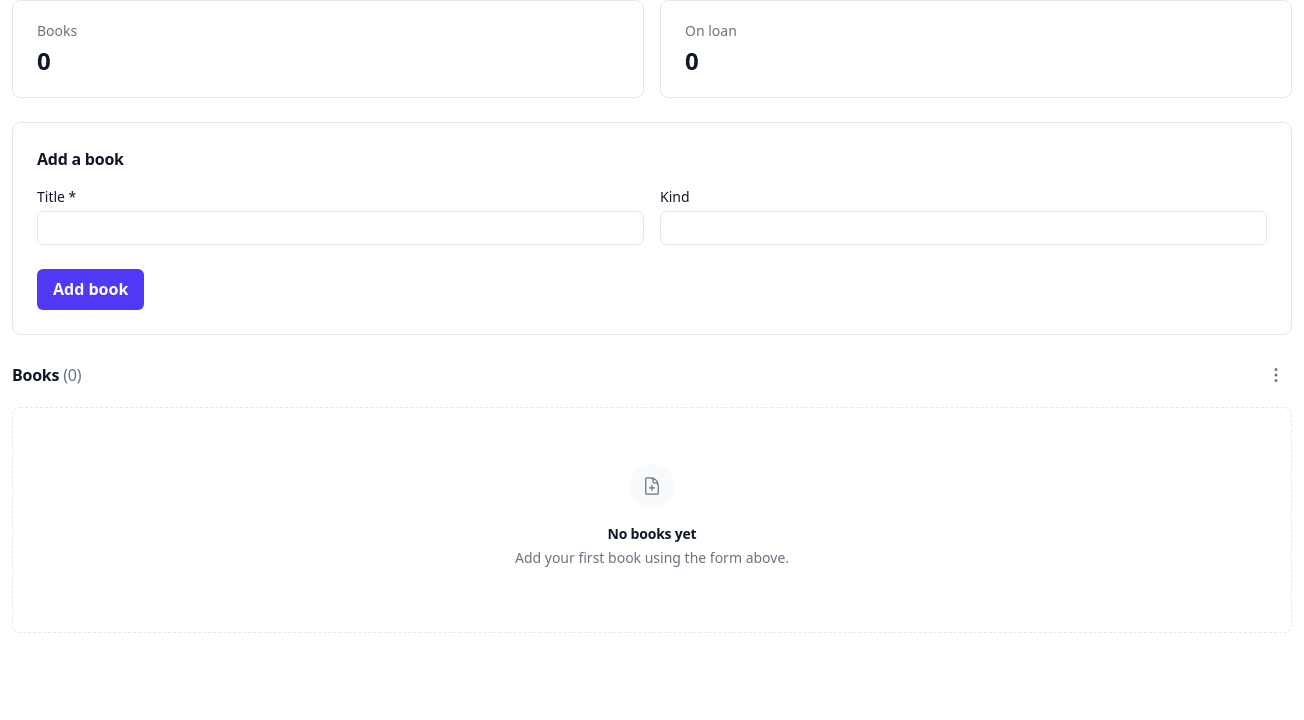
it: row actions › collects a value inline and writes it to the record
Type "Hamlet" into the field labelled "Title *" at (340, 228), box [37, 211, 644, 245]
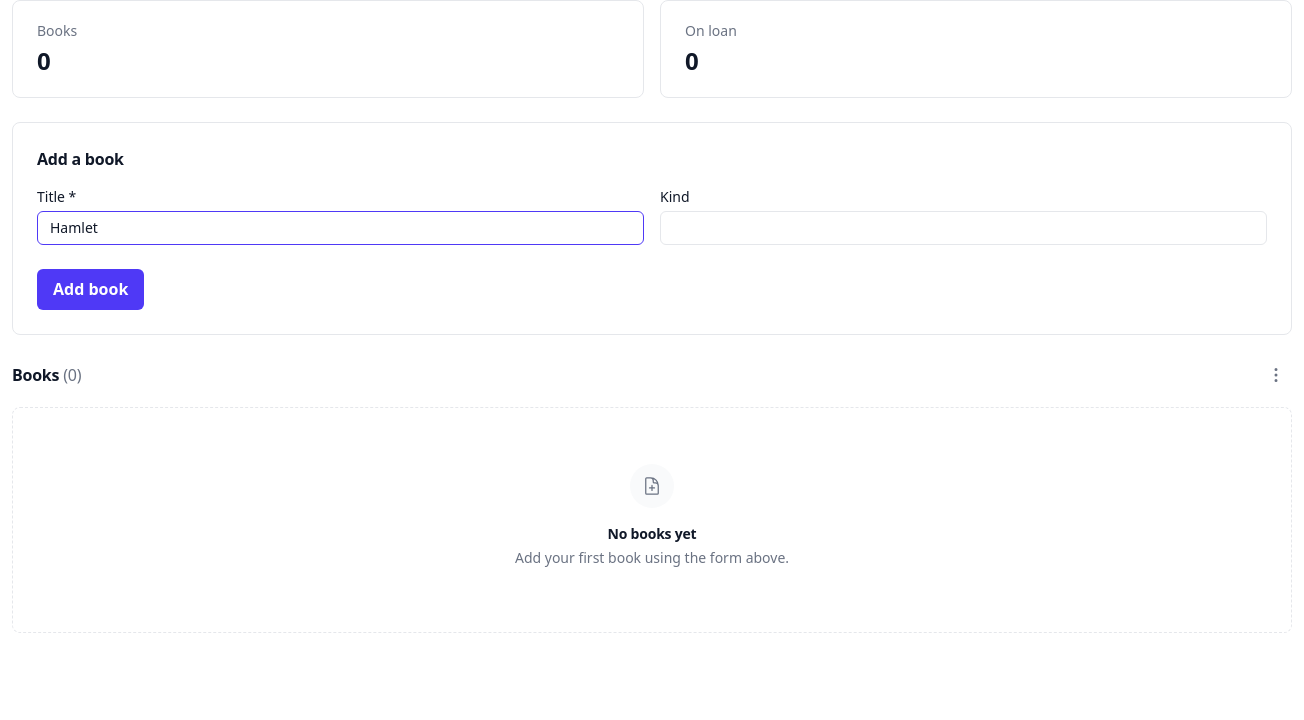
Click the button "Add book" at (91, 289), box [37, 269, 144, 310]
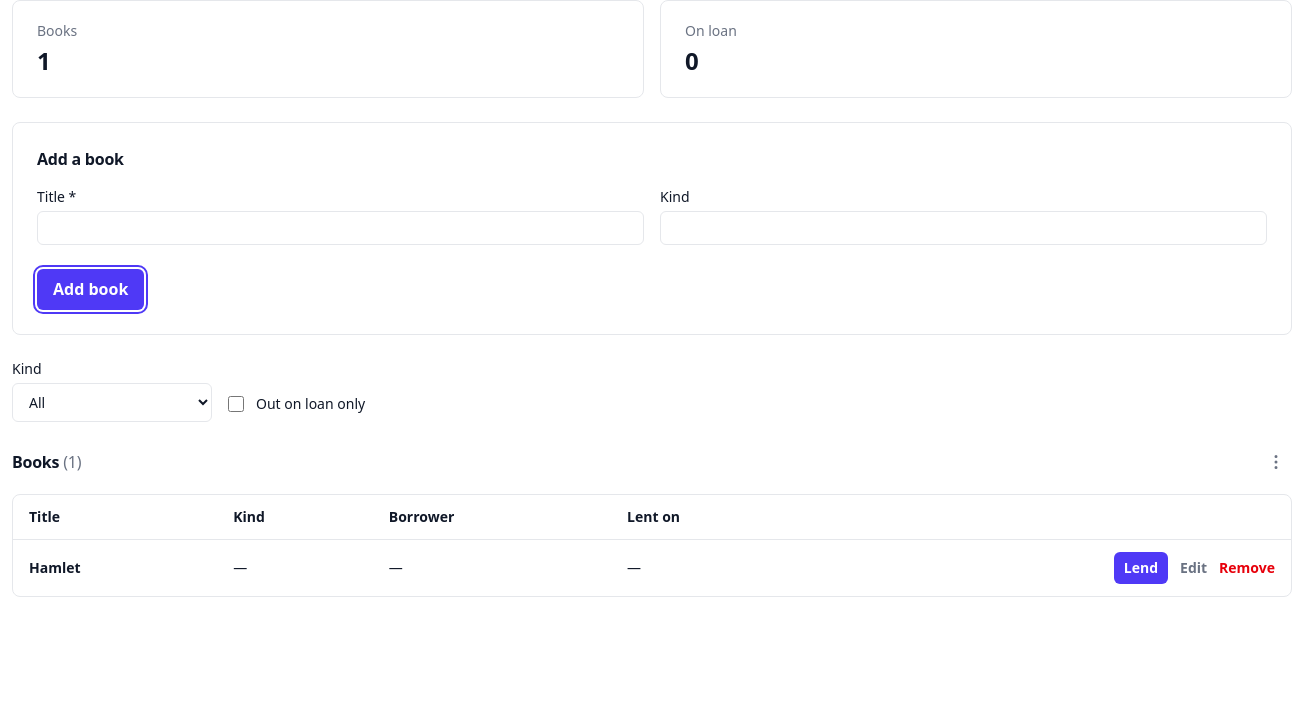
Click the button with aria-label "Lend: Hamlet" at (1141, 568), box [1114, 552, 1168, 584]
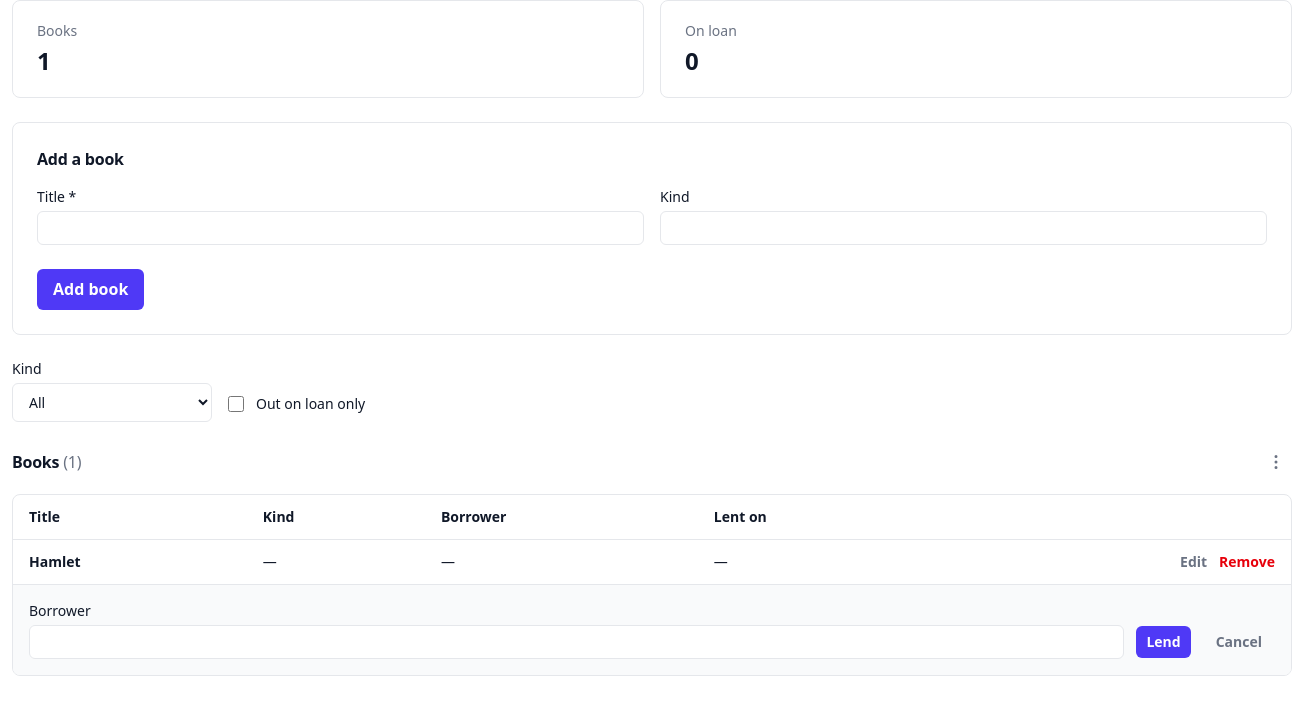
Type "Ada" into the field labelled "Borrower" at (577, 642), box [29, 625, 1124, 659]
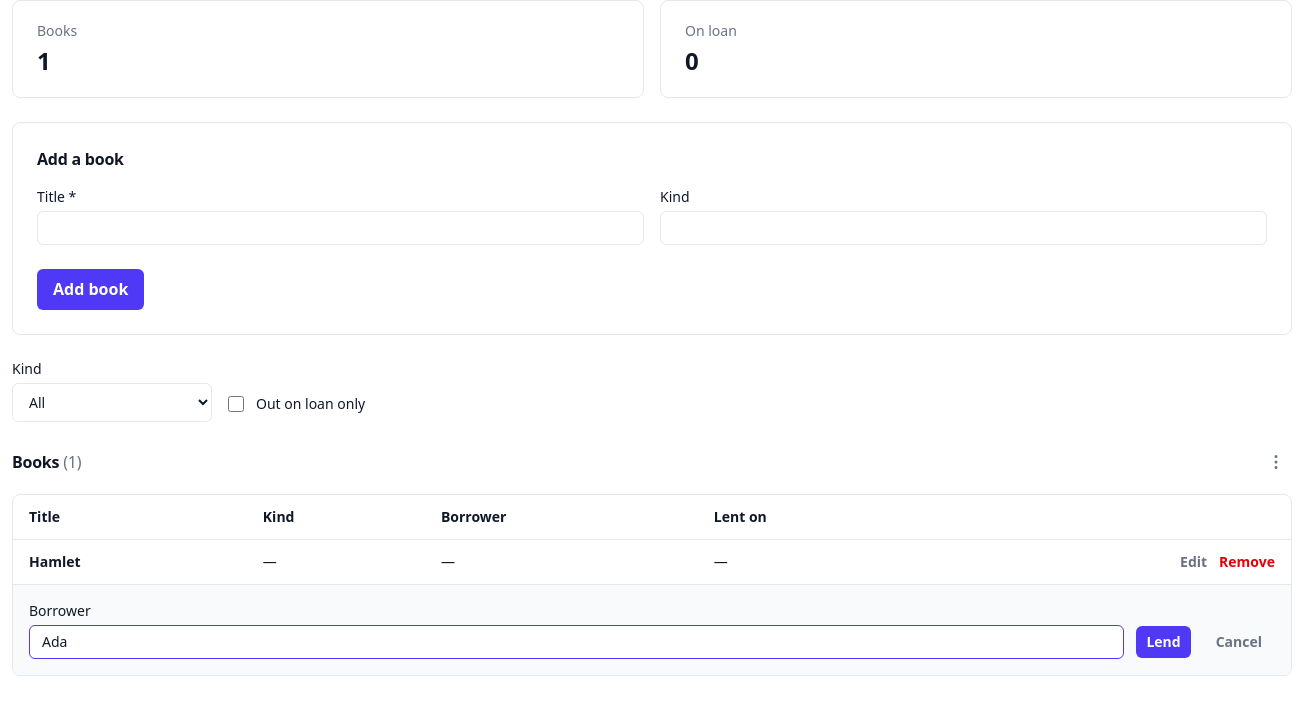
Click the button with aria-label "Confirm lend: Hamlet" at (1164, 642), box [1136, 626, 1191, 658]
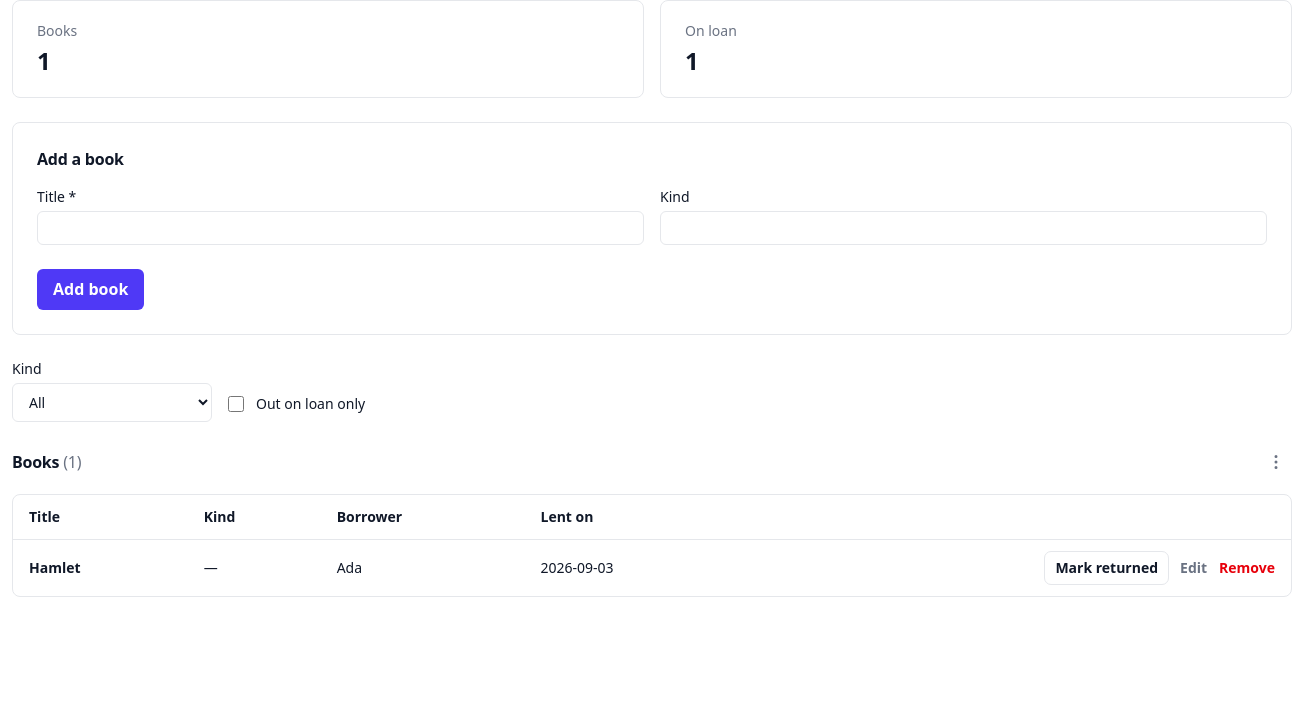
Check: the table shows "Ada", box [337, 558, 362, 577]
Check: the text named "On loan" reads "1", box [685, 44, 698, 77]
